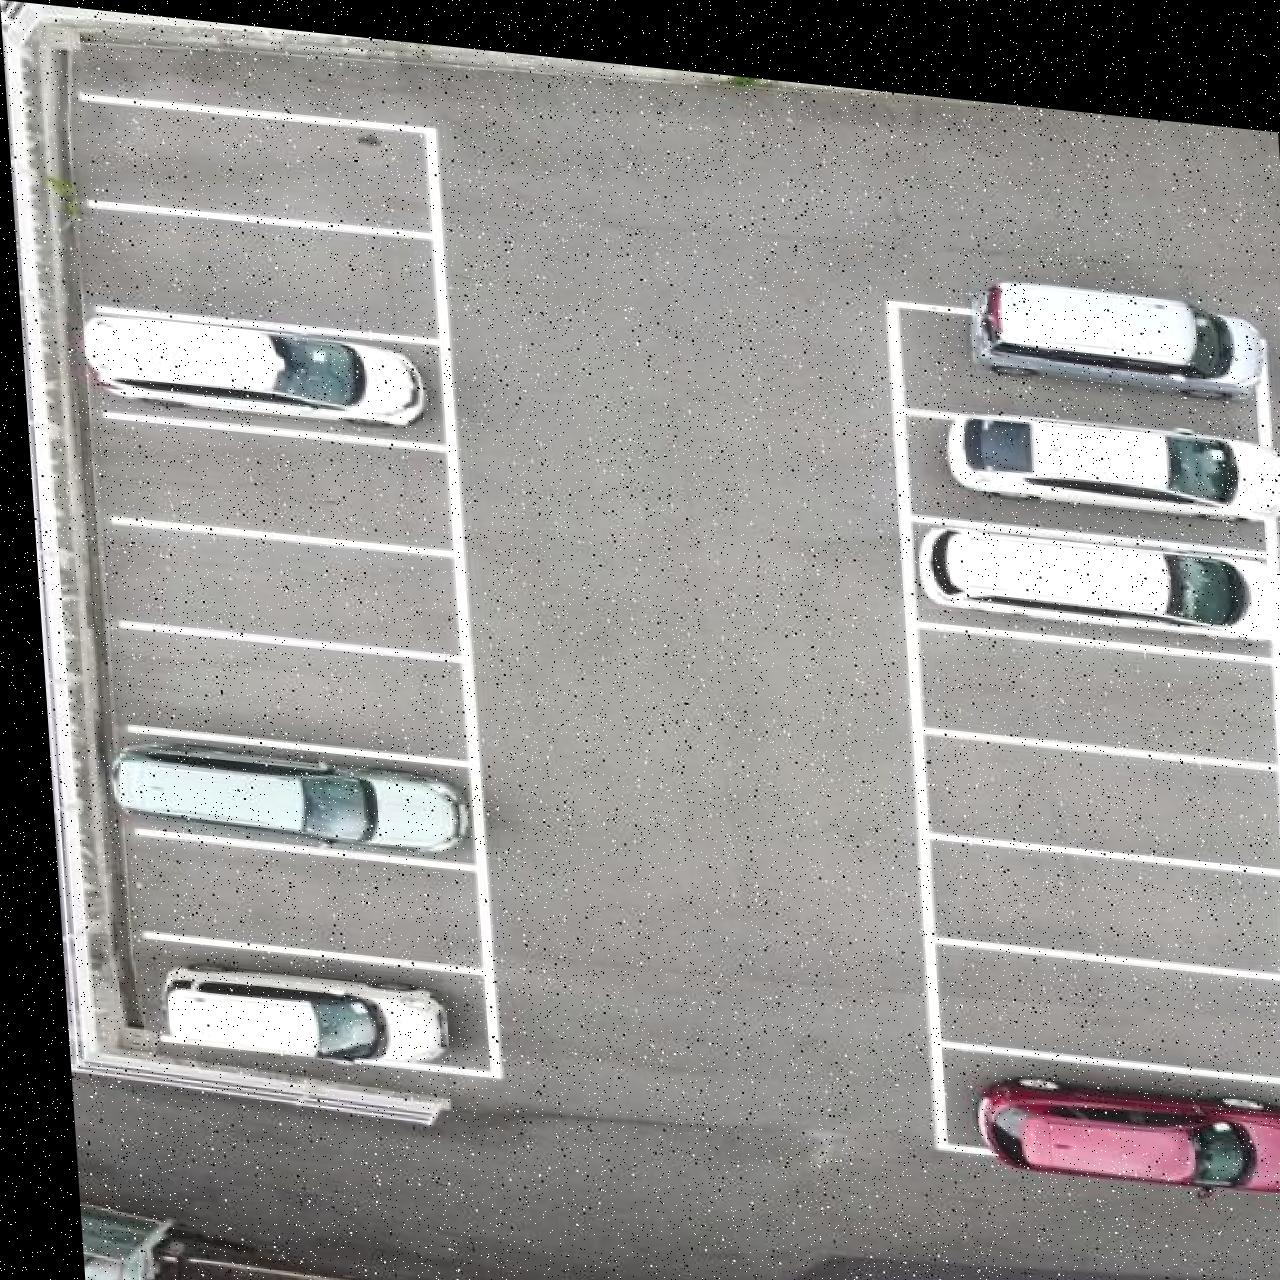car: (911, 503, 1280, 620), (96, 733, 463, 850), (961, 1048, 1280, 1175), (77, 307, 424, 423), (940, 383, 1280, 501), (967, 254, 1265, 376), (144, 955, 438, 1065), (415, 1276, 699, 1280)
